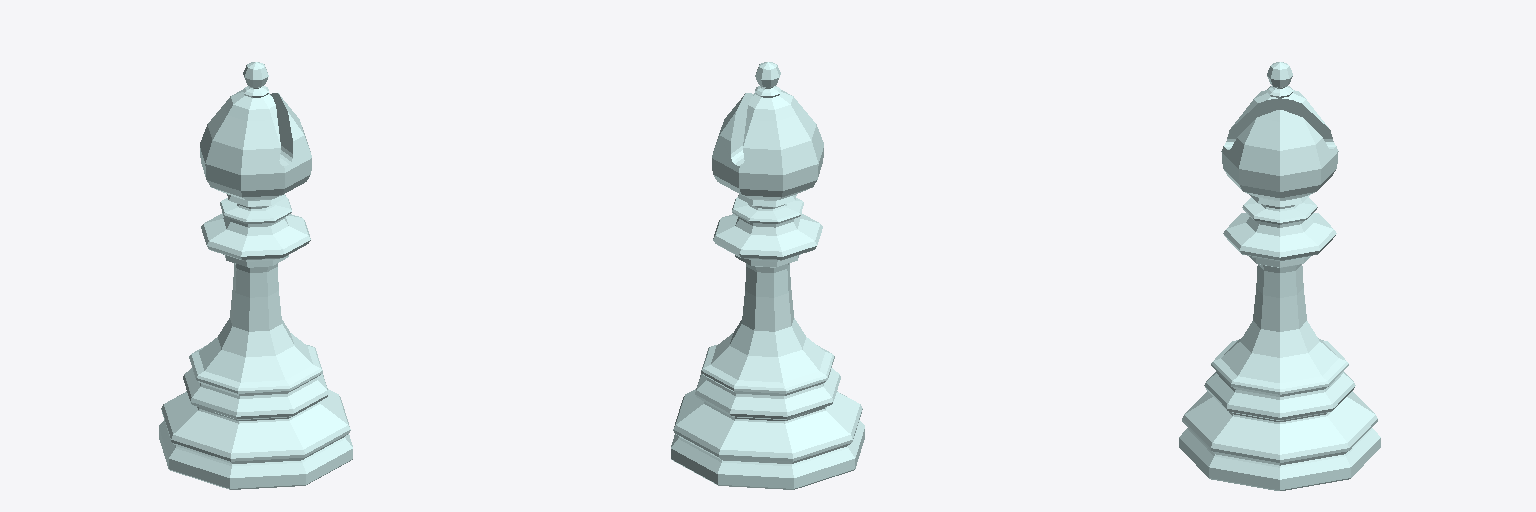
File: Bishop.obj
The picture shows the model from 3 angles: view 1: azimuth 30°, elevation 25°; view 2: azimuth 150°, elevation 25°; view 3: azimuth 270°, elevation 25°; orthographic projection.
Visible parts, largest first — view 1: Bishop.001_Cylinder.011; view 2: Bishop.001_Cylinder.011; view 3: Bishop.001_Cylinder.011.
Part boxes in pixels (x1,y1,x2,y2): Bishop.001_Cylinder.011: (159,62,352,489); Bishop.001_Cylinder.011: (671,62,864,489); Bishop.001_Cylinder.011: (1179,62,1380,490).
Size of the model in its own units: 0.4002 by 0.8484 by 0.4002.